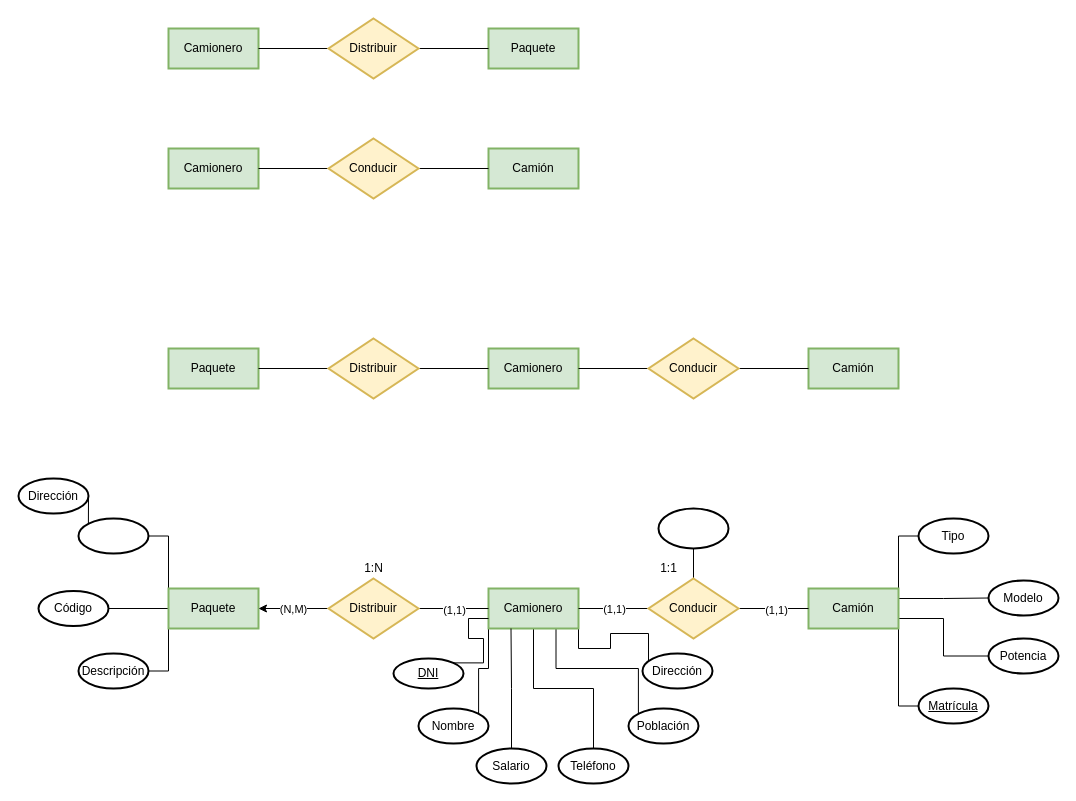
The diagram is 1076 pixels wide and 801 high, and some of its shapes have lost their labels. Here are the shapes that lost their labels. From the top down, the centre of each, then its label:
point (113, 535): Destinatario
point (693, 528): Fecha
